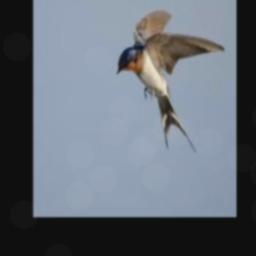Swallow: (117, 9, 225, 154)
